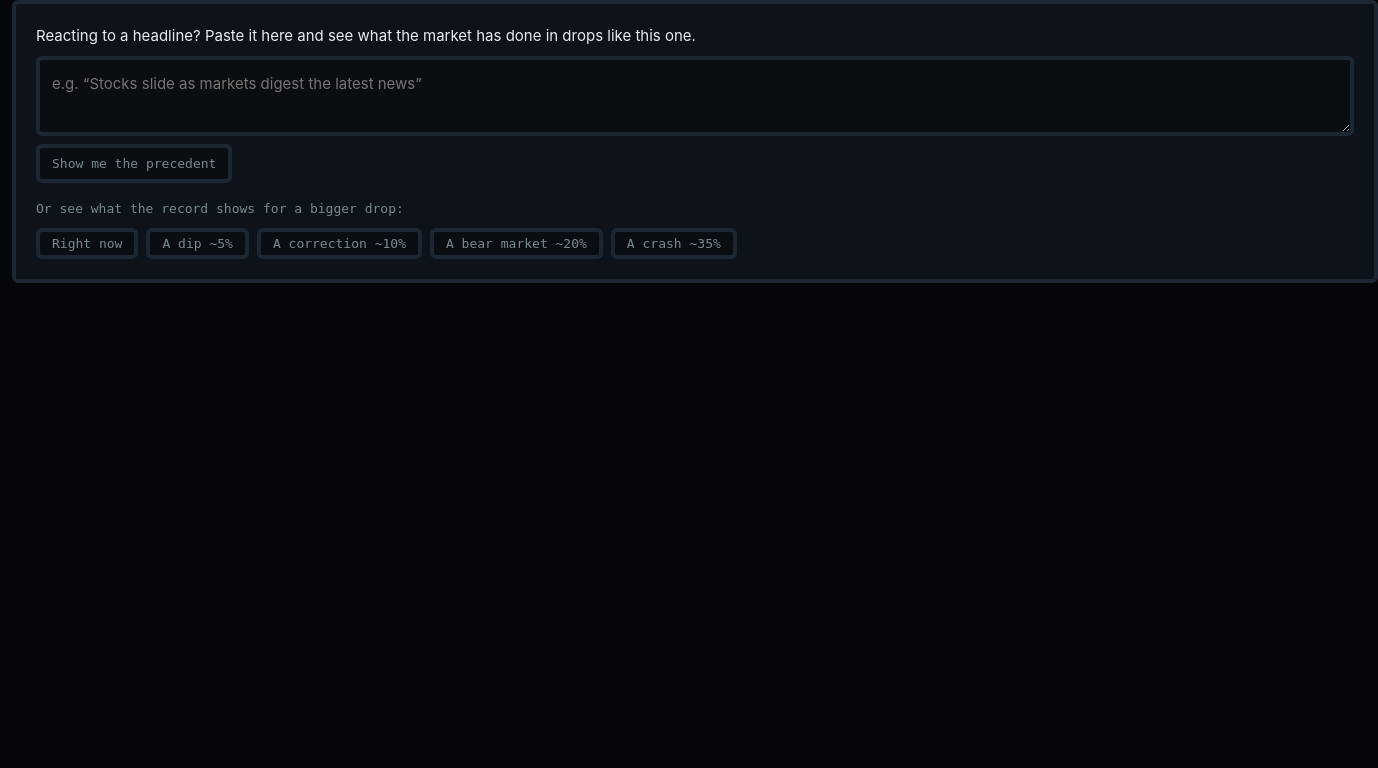
Test: HeadlineContextualizer — pull-only, calm, non-interpretive › choosing a scenario POSTs { headline, drawdown } and renders the hypothetical record
Type "Markets tumble on recession fears" into the text box with test id "headline-input" at (695, 96), box [36, 56, 1354, 136]
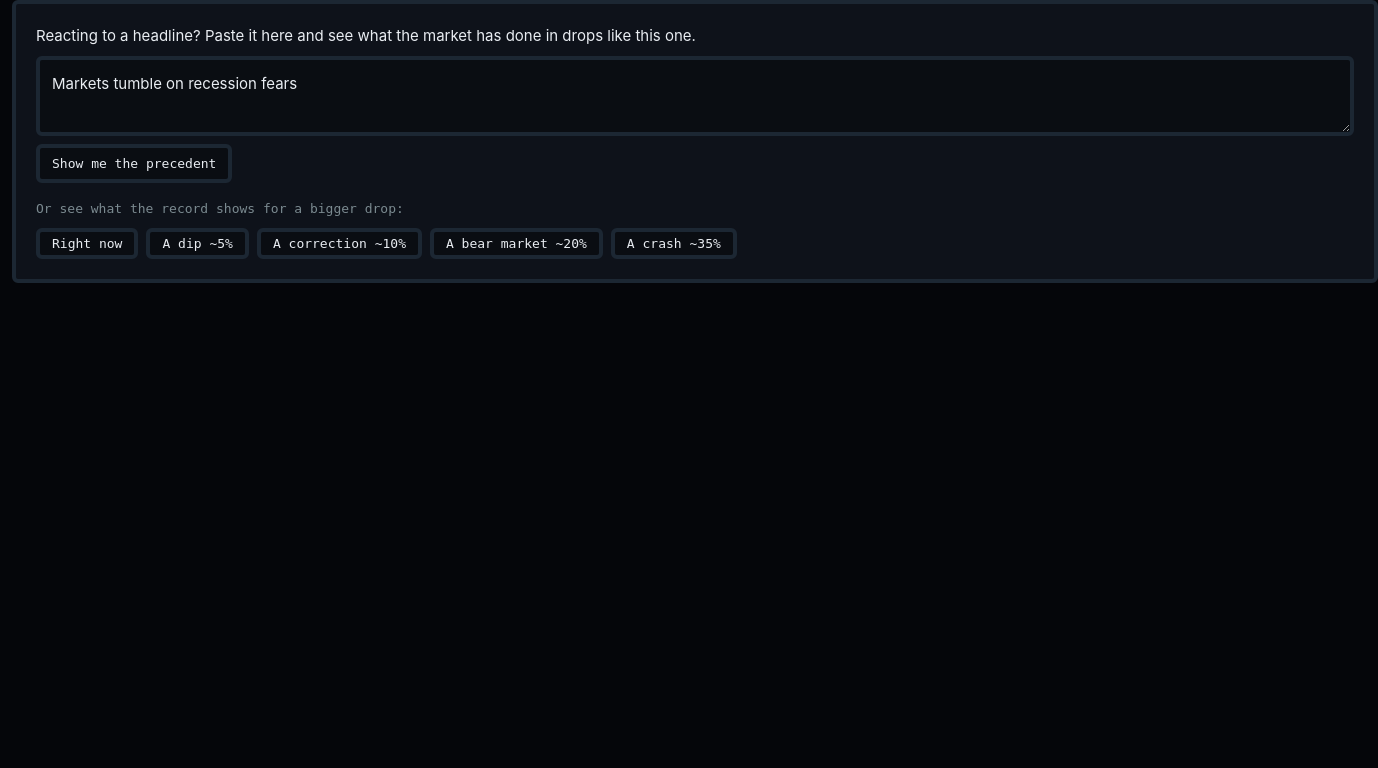
Click the button with test id "headline-scenario-crash" at (674, 243), box [611, 228, 737, 259]
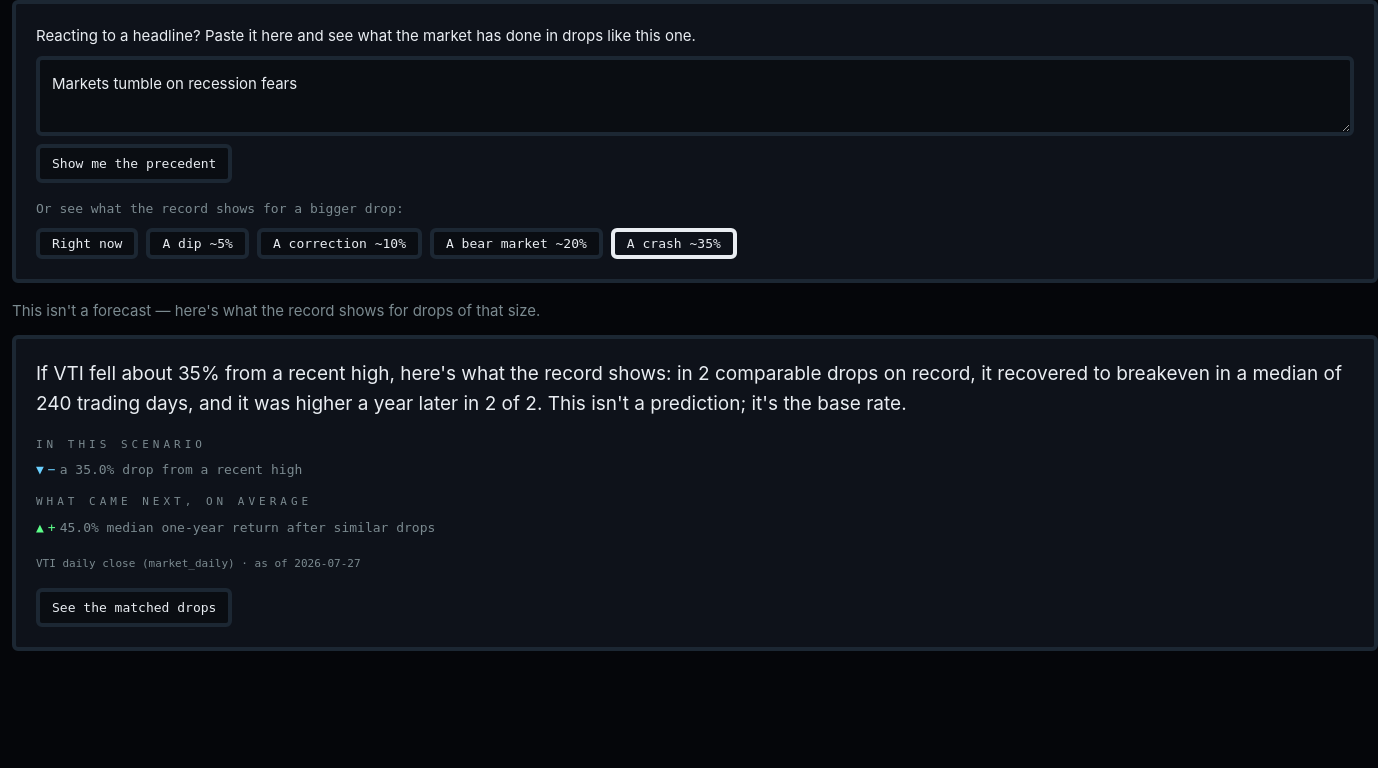
Expected: the element with test id "precedent-event" is shown, [12, 335, 1377, 651]
Expected: the text with test id "headline-framing" reads "This isn't a forecast — here's what the record shows for drops of that size.", [12, 301, 540, 320]
Expected: the text with test id "precedent-statement" shows "If VTI fell about 35%", [36, 362, 1342, 415]
